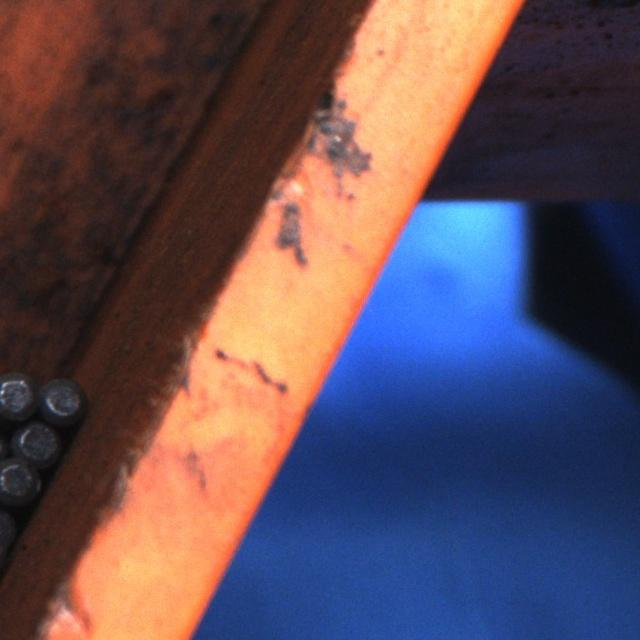tool: (13, 418, 61, 465), (39, 375, 85, 423), (0, 454, 40, 504), (0, 370, 37, 420)
